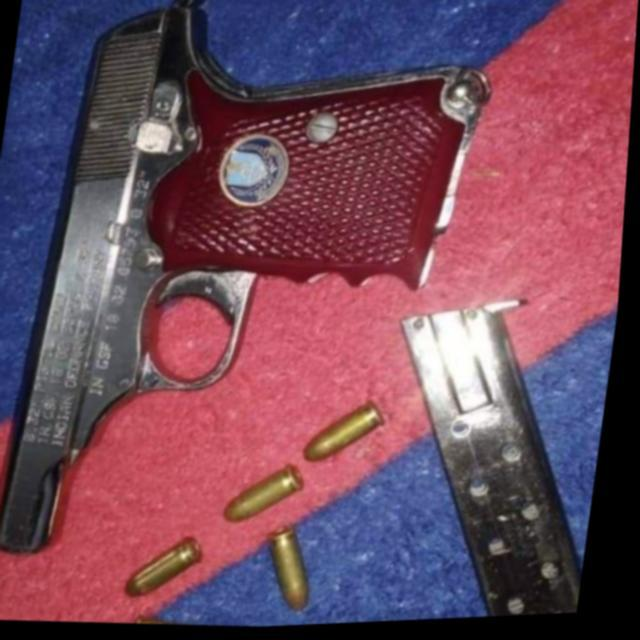weapon: (0, 0, 511, 590)
